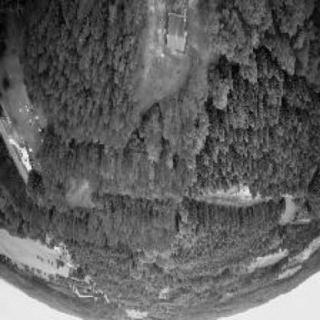other: (4, 106, 46, 190)
